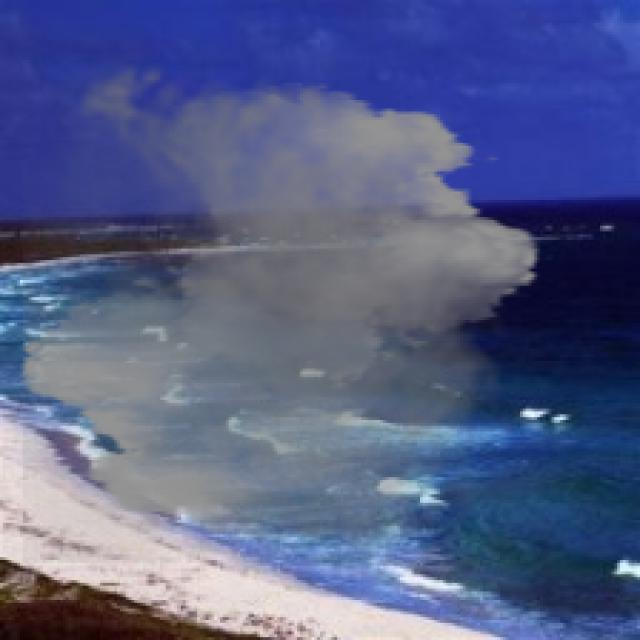smoke: (3, 48, 557, 563)
